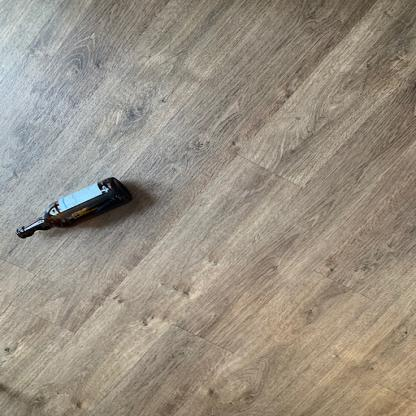trash: (16, 177, 138, 239)
